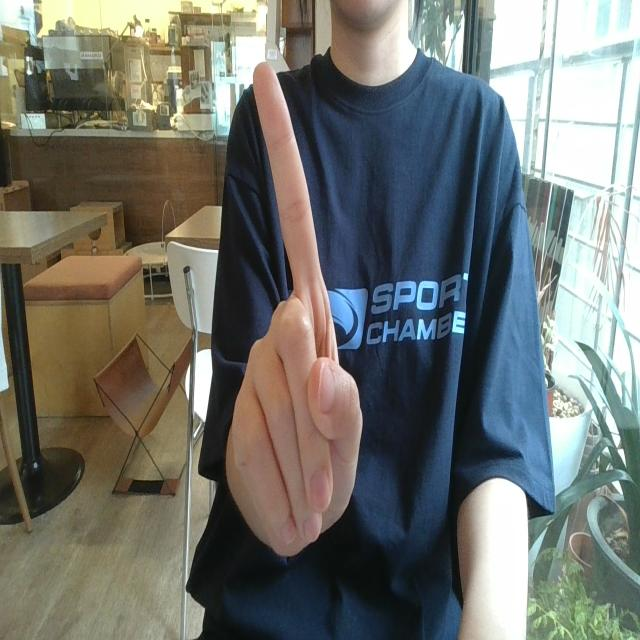hand-numbers: (179, 51, 385, 570)
